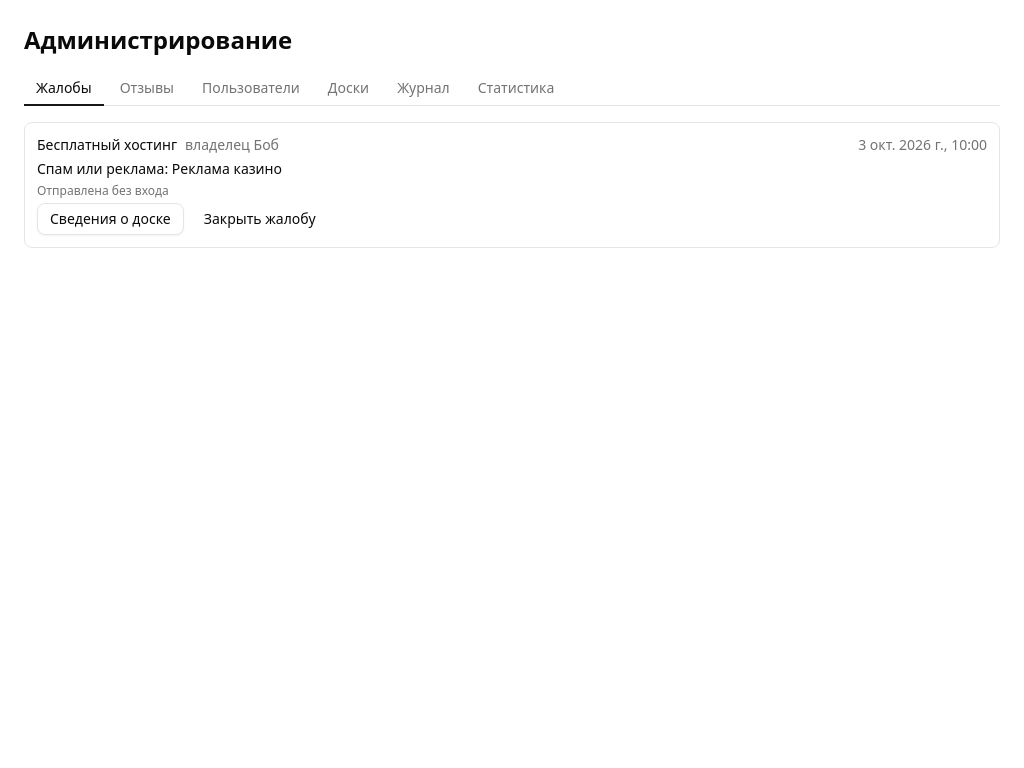
AdminPage › opens the board of a report with its owner, size and live image, and closes its sharing
The width and height of the screenshot is (1024, 768).
What coordinates should you click on to do the following:
click the button "Сведения о доске"
I would click on:
 (110, 219)
Its box is [37,203,184,235].
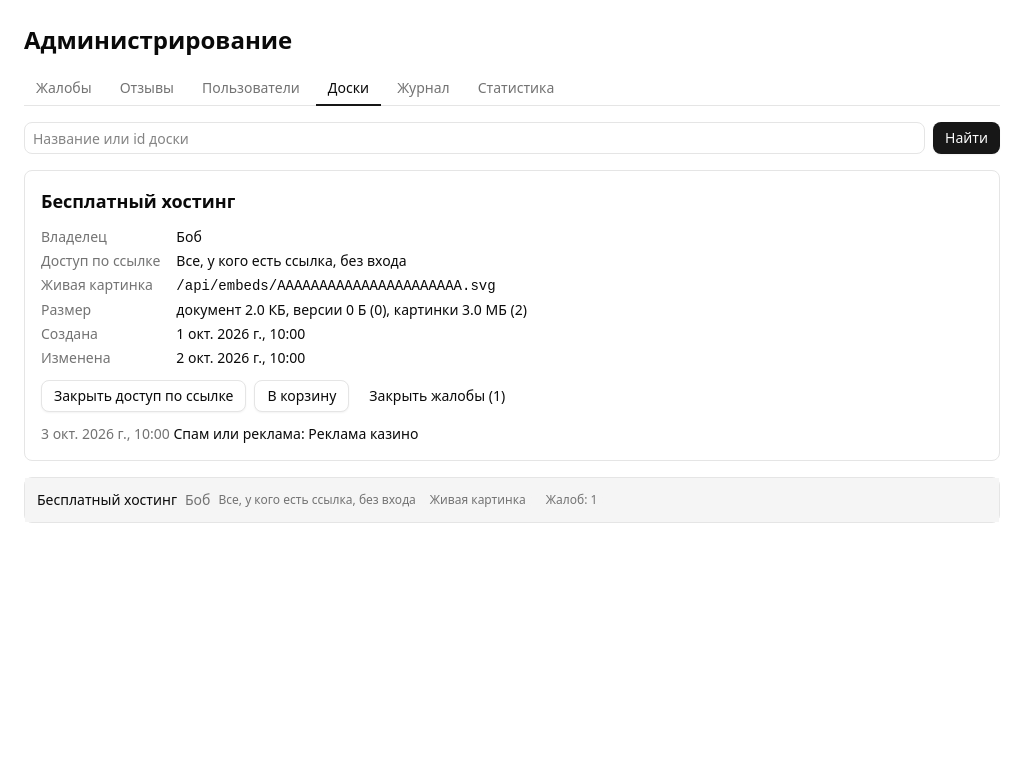
Expected: the element named "Доска «Бесплатный хостинг»" shows "Все, у кого есть ссылка, без входа", [176,251,407,270]
Expected: the element named "Доска «Бесплатный хостинг»" shows "/api/embeds/AAAAAAAAAAAAAAAAAAAAAA.svg", [176,278,496,294]
Expected: the element named "Доска «Бесплатный хостинг»" shows "документ 2.0 КБ, версии 0 Б (0), картинки 3.0 МБ (2)", [176,300,527,319]
What coordinates should you click on to do the following:
click the button "Закрыть доступ по ссылке"
I would click on:
 (144, 396)
Its box is [41,380,246,412].
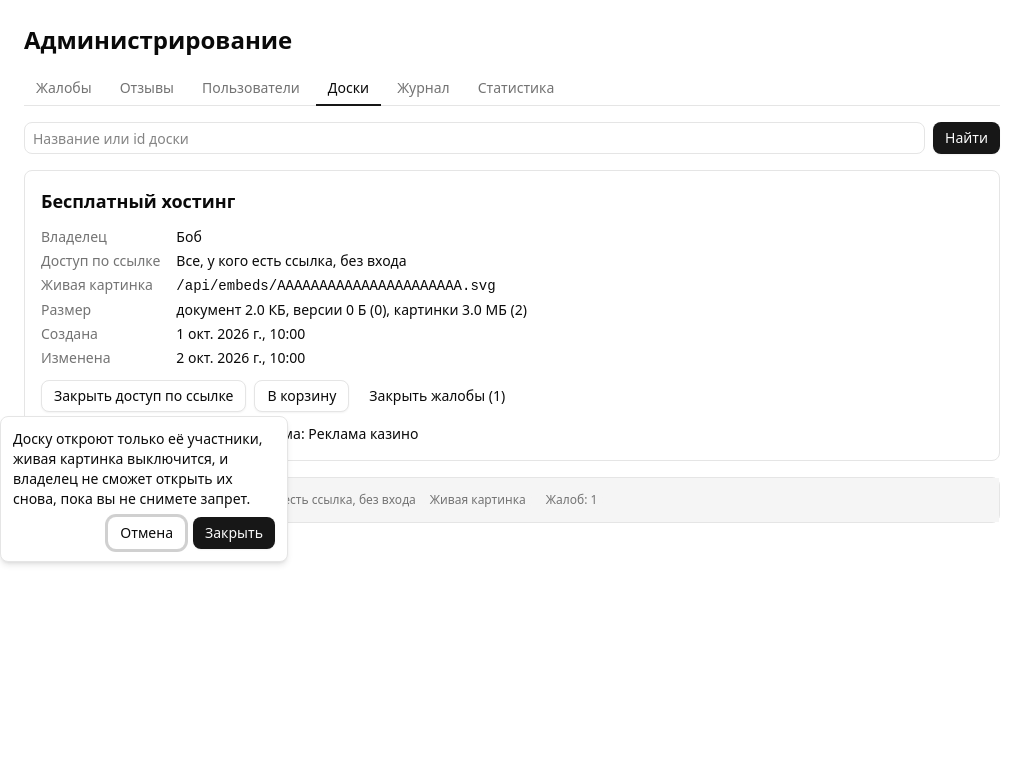
What coordinates should you click on to do the following:
click the button "Закрыть"
I would click on:
 (234, 533)
Its box is [193,517,275,549].
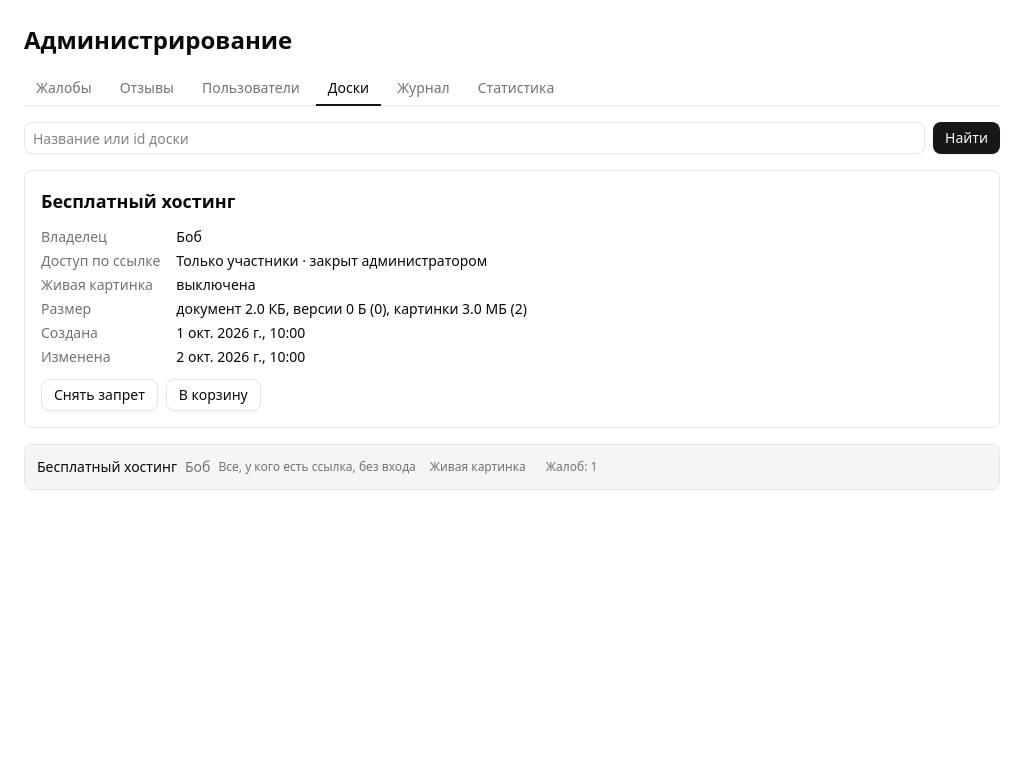
Expected: the button "Снять запрет" is shown, [41,379,158,411]
Expected: the element named "Доска «Бесплатный хостинг»" shows "Только участники · закрыт администратором", [24,170,1000,428]
